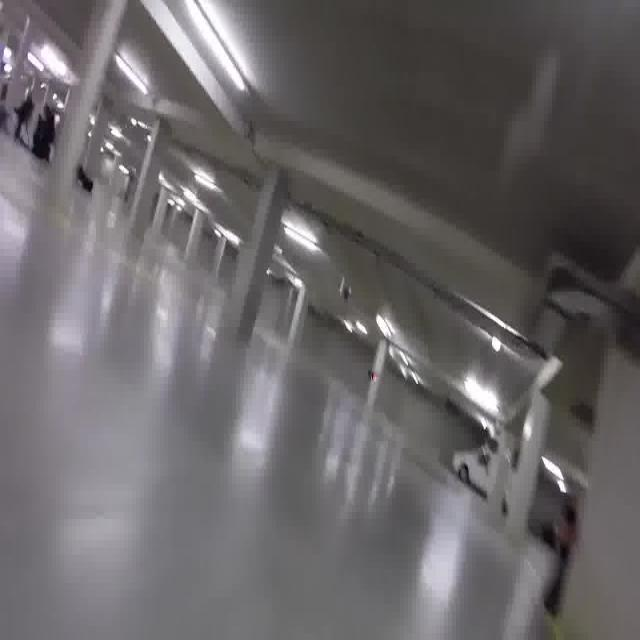drones: (334, 268, 354, 310)
